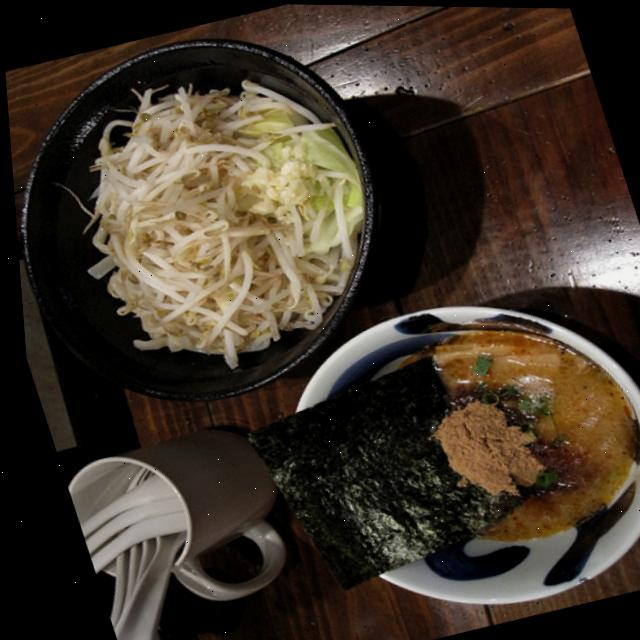面条主食: (33, 12, 640, 613)
